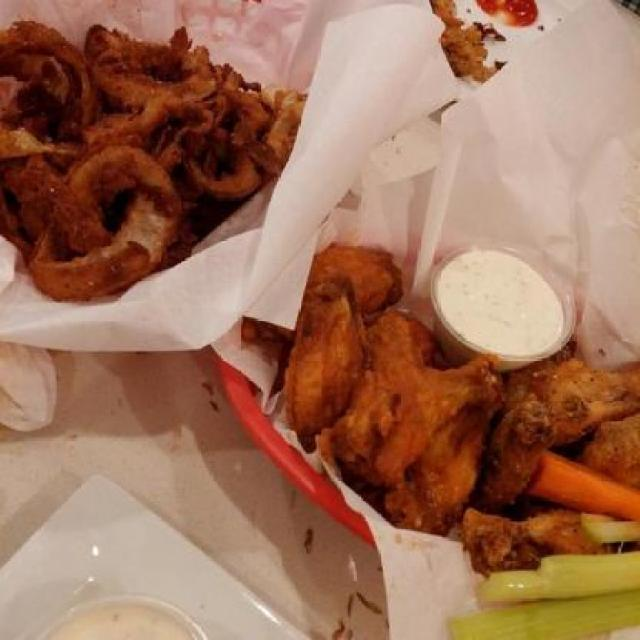chicken wings: (271, 227, 638, 578)
